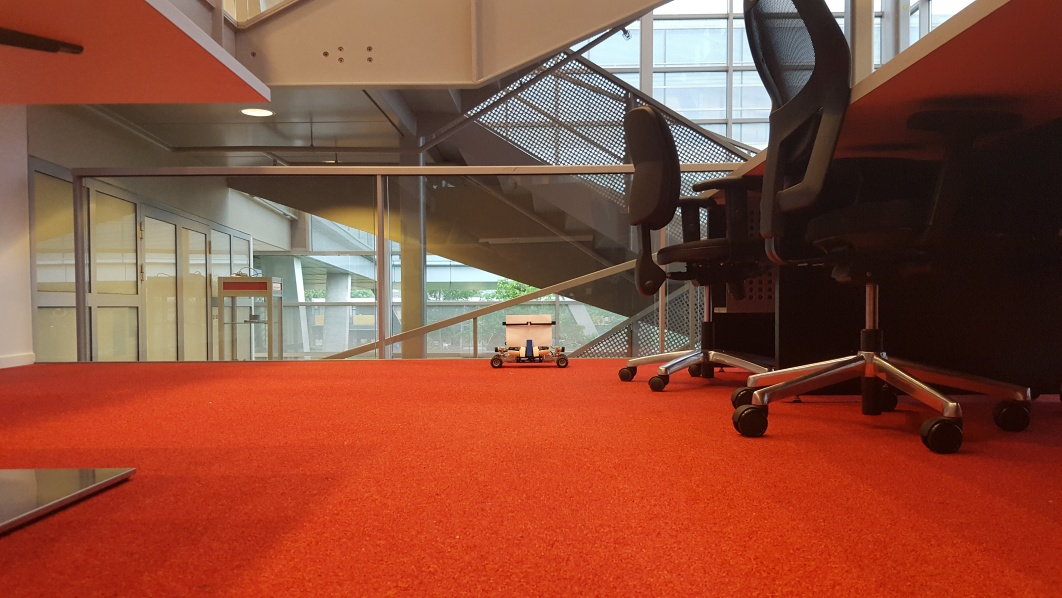car: (490, 312, 572, 369)
